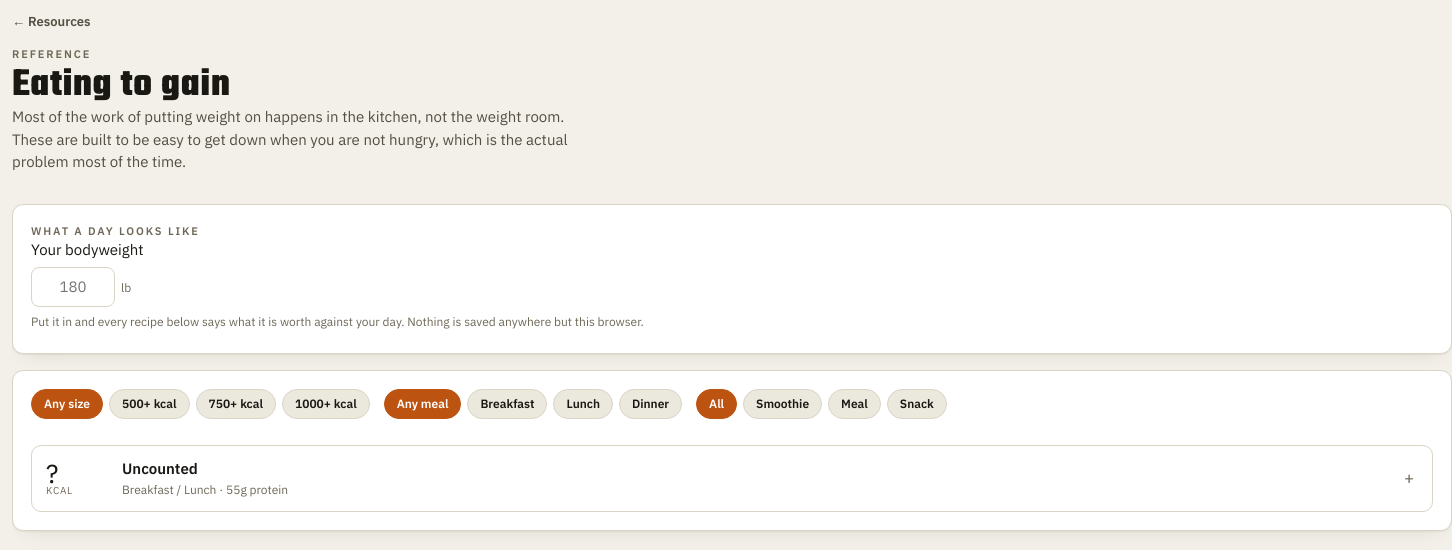
Test: an uncounted recipe is not offered as an answer to a calorie question
Expected: the text "Uncounted" is shown, [122,459,198,478]
Click the button "1000+ kcal": [326, 404] box [282,389,370,419]
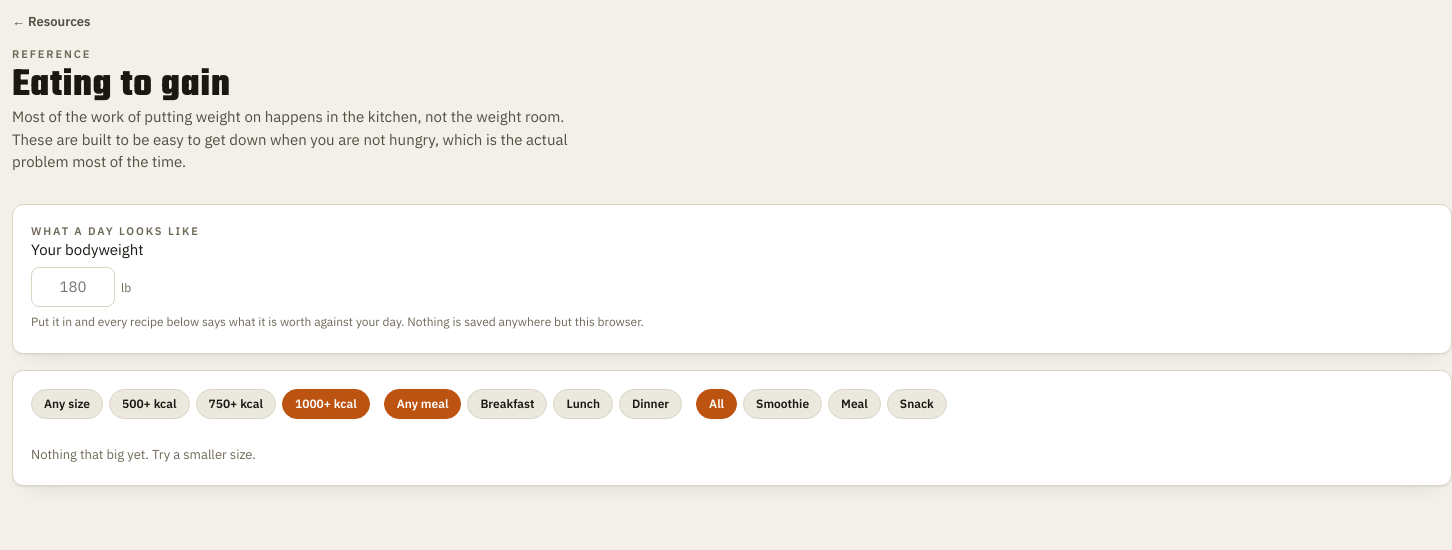
Expected: the button "Uncounted" is gone
